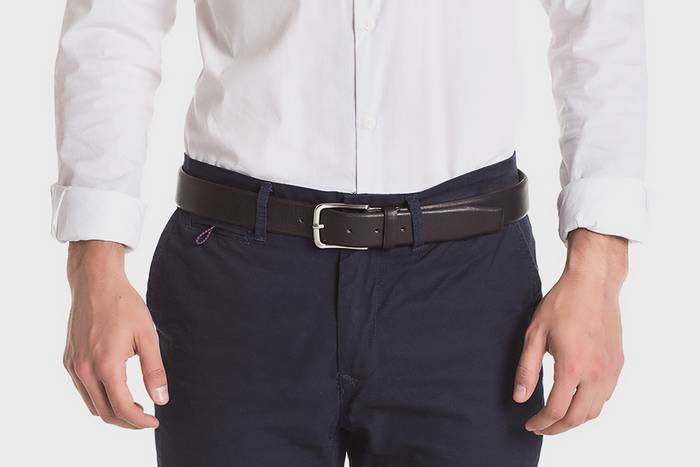F_belt: (169, 166, 536, 252)
F_dress pants: (143, 159, 551, 467)
F_shirt: (46, 1, 650, 242)
